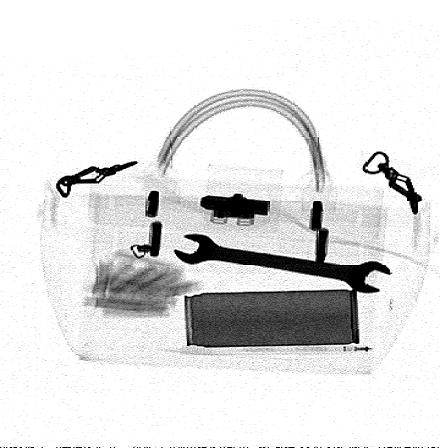Wrench: (173, 233, 393, 295)
